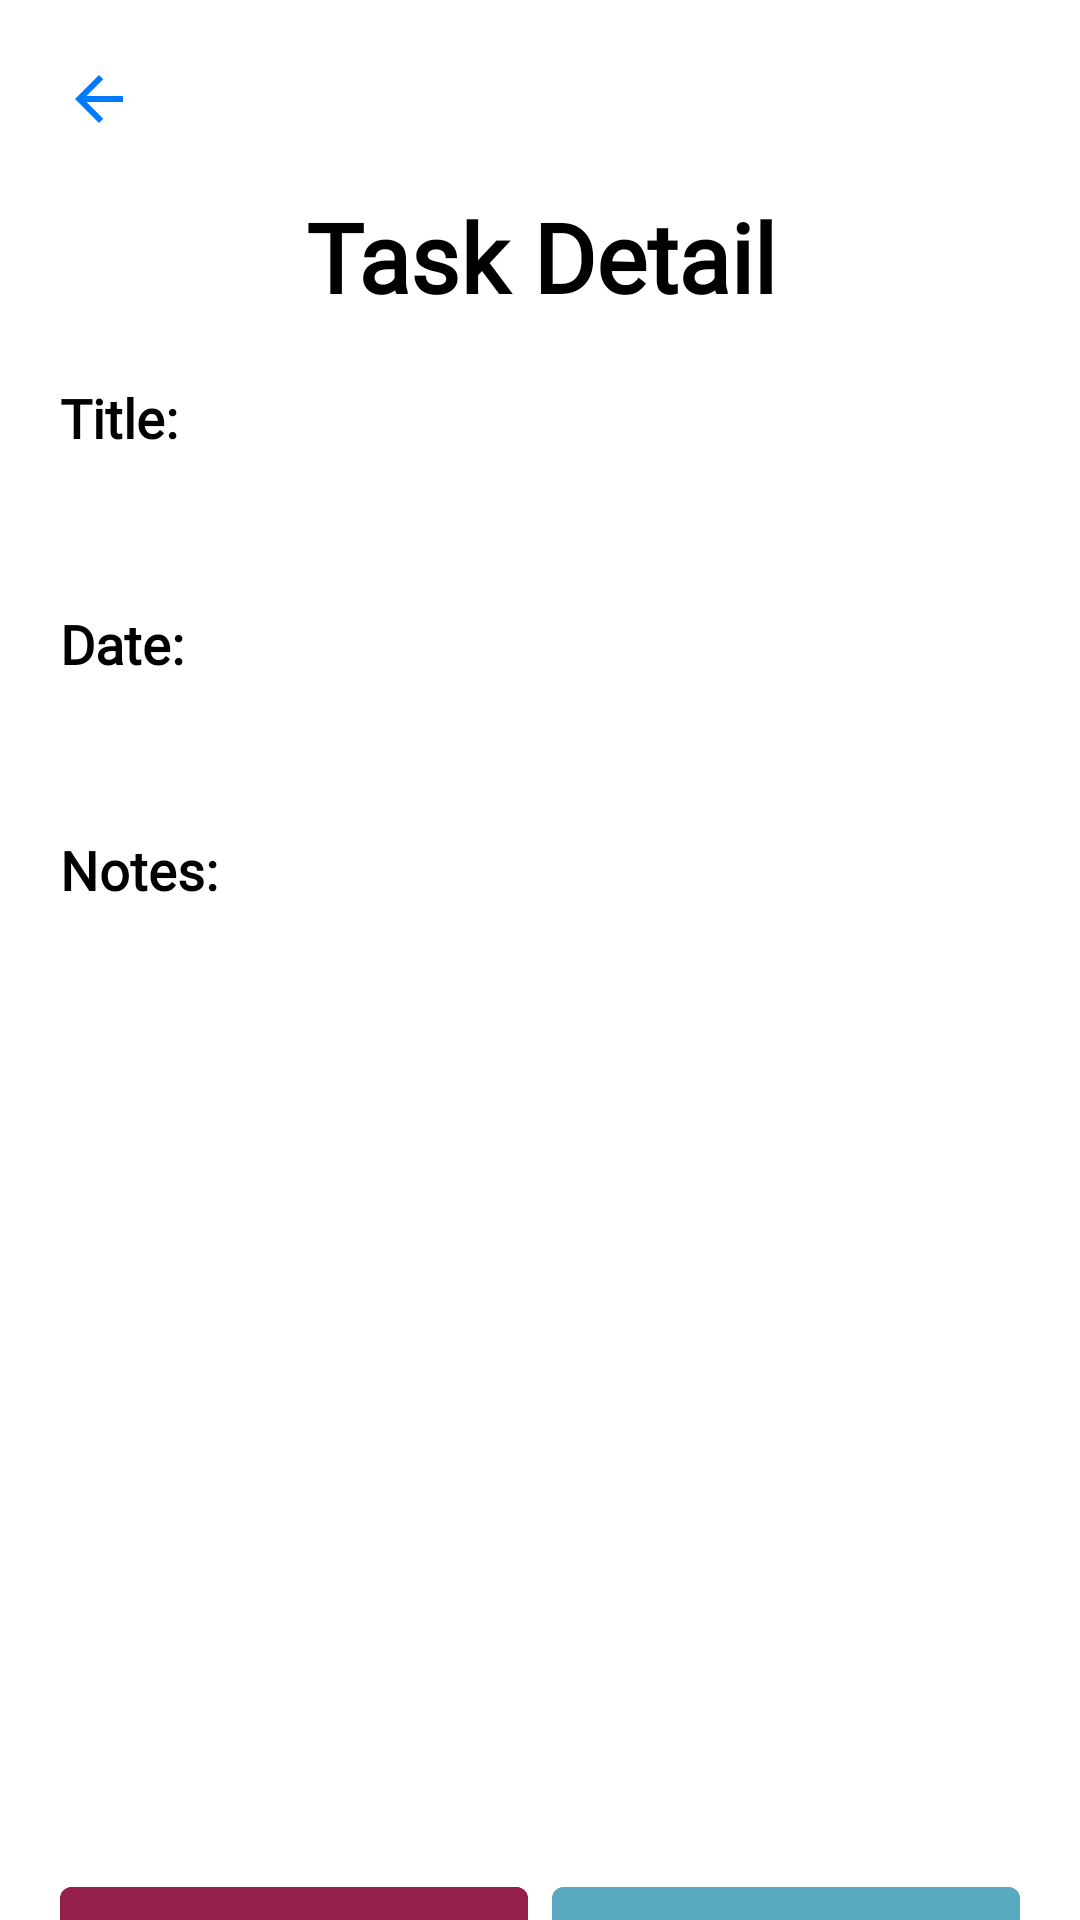

Icons on this 1080w x 1920h Android screen, each with its box as (x1, y1, x2, y2):
arrow back: (75, 75, 123, 123)
